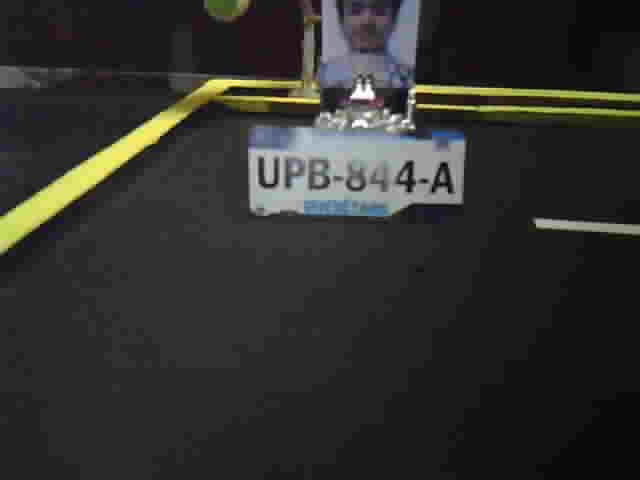PLACA: (245, 124, 469, 225)
ROSTRO: (324, 1, 415, 89)
